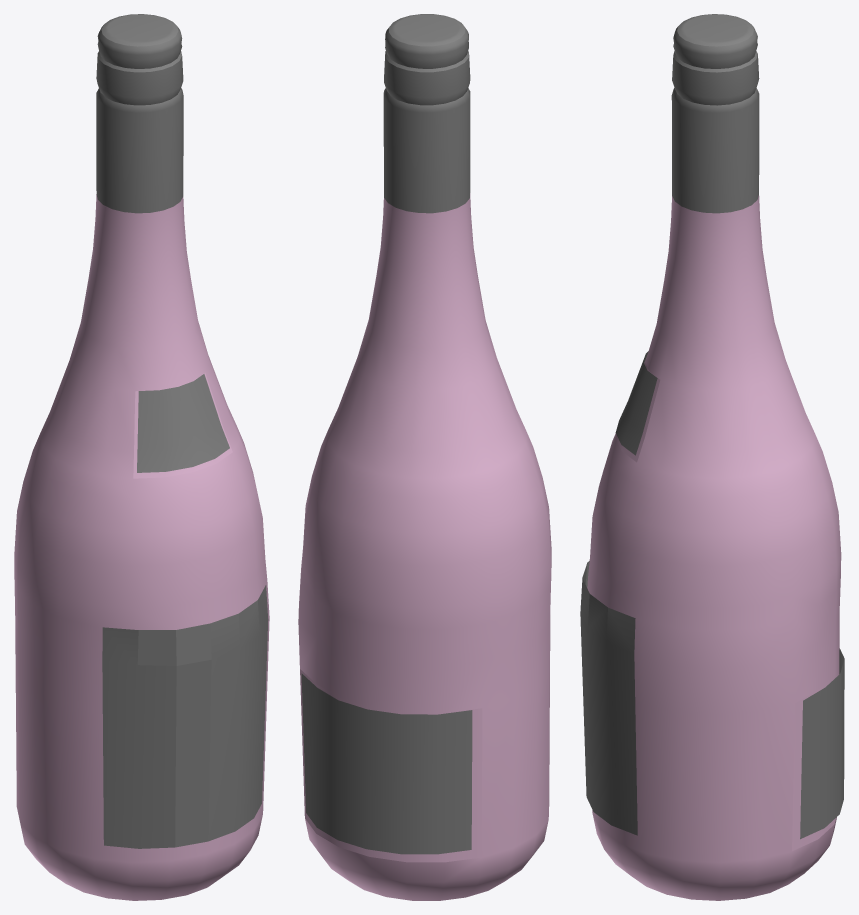
Rendered from SM_Rose.FBX.
The picture shows the model from 3 angles, left to right: view 1: azimuth 30°, elevation 25°; view 2: azimuth 150°, elevation 25°; view 3: azimuth 270°, elevation 25°; orthographic projection.
Visible parts, largest first — view 1: SM_Rose_LOD0; view 2: SM_Rose_LOD0; view 3: SM_Rose_LOD0.
Part boxes in pixels (x1,y1,x2,y2): SM_Rose_LOD0: (14, 14, 269, 900); SM_Rose_LOD0: (298, 14, 551, 900); SM_Rose_LOD0: (580, 14, 844, 900).
Size of what is drawn, in the model's own units: 16.65 by 60.07 by 17.21.
